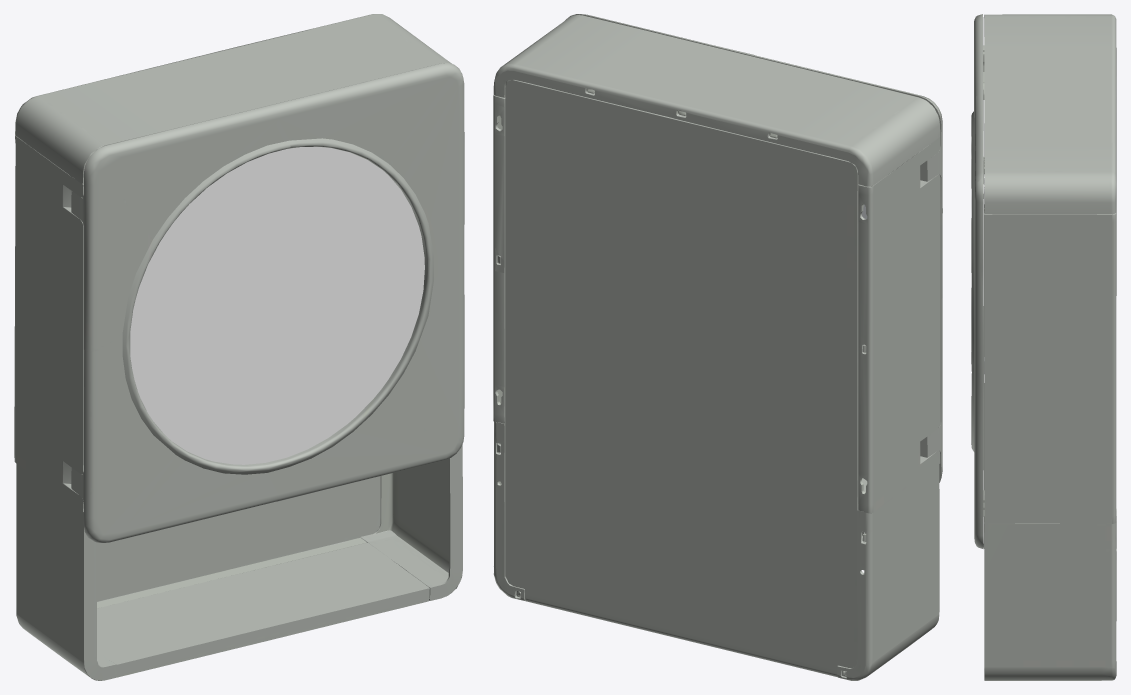
Rendered from ivosjon_szafka_z_lustrem_i_drzwiami_10569096.glb.
3 views of the same model, side by side, from view 1: azimuth 30°, elevation 25°; view 2: azimuth 150°, elevation 25°; view 3: azimuth 270°, elevation 25° (orthographic). The views are drawn at different scales.
Parts seen in each view (by area): view 1: ivosjon_szafka_z_lustrem_i_drzwiami_10569096; view 2: ivosjon_szafka_z_lustrem_i_drzwiami_10569096; view 3: ivosjon_szafka_z_lustrem_i_drzwiami_10569096.
Boxes of the visible parts, x1,y1,x2,y2 form: ivosjon_szafka_z_lustrem_i_drzwiami_10569096: (14,14,464,680); ivosjon_szafka_z_lustrem_i_drzwiami_10569096: (493,14,942,680); ivosjon_szafka_z_lustrem_i_drzwiami_10569096: (971,14,1116,680).
Bounding box in the file's own units: 0.4401 × 0.5929 × 0.1542.
Materials: 3 (3 with a texture image).
